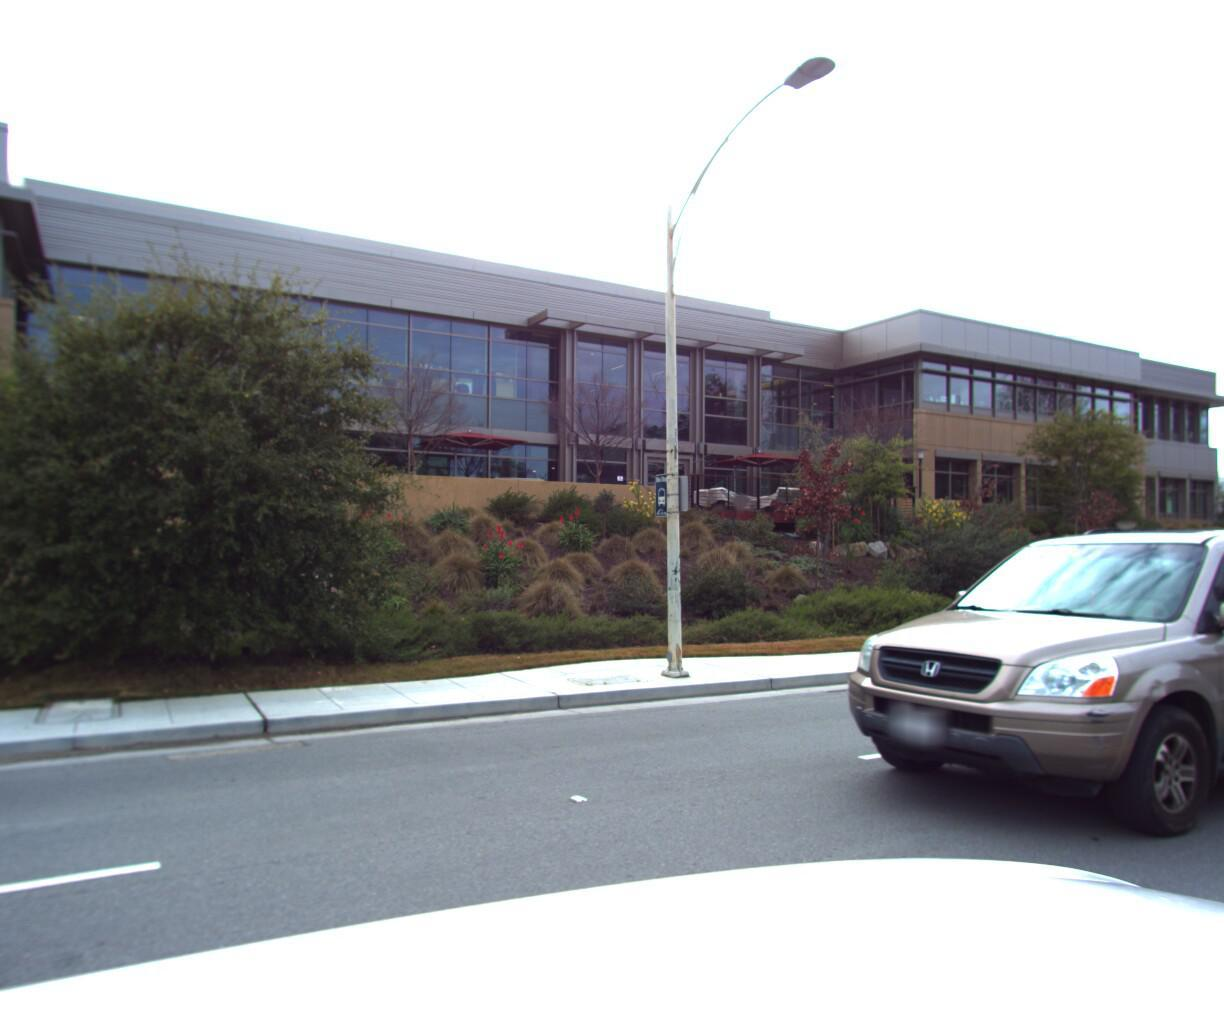car: (805, 506, 1224, 874), (1202, 546, 1224, 669)
